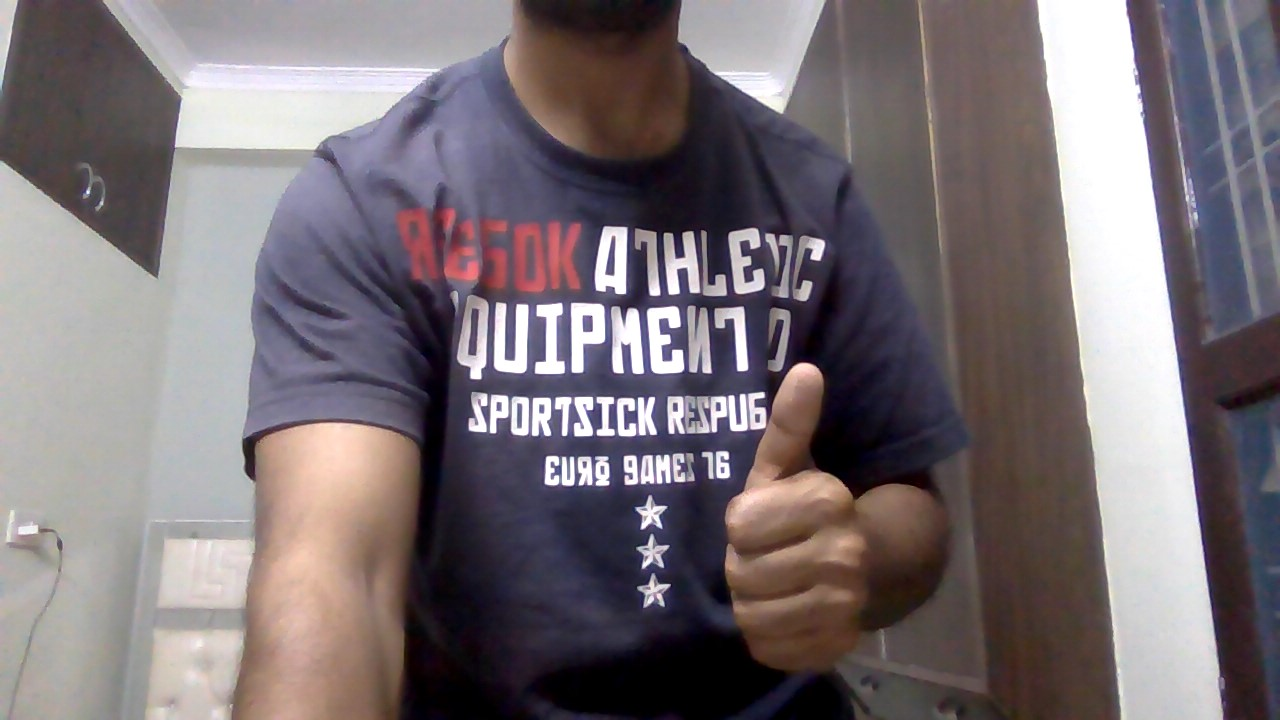Save: (718, 358, 880, 686)
